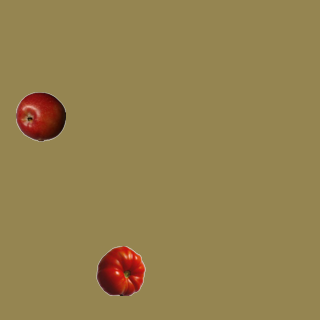Apple Braeburn: (15, 91, 65, 141)
Tomato 3: (95, 245, 145, 295)
